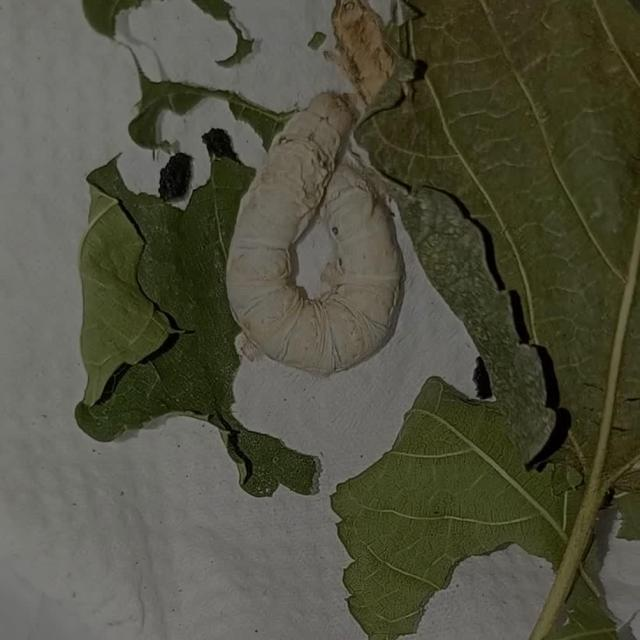Healthy: (209, 62, 424, 394)
